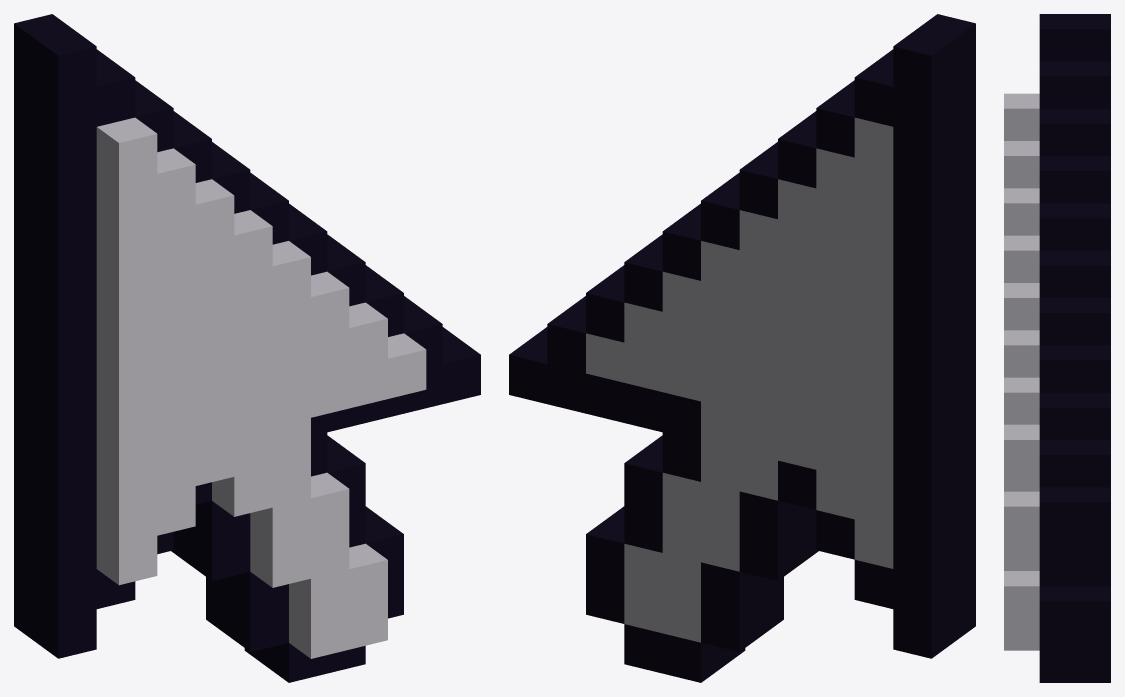
The model's file is voxel-cursor.glb.
3 views of the same model, side by side, from view 1: azimuth 30°, elevation 25°; view 2: azimuth 150°, elevation 25°; view 3: azimuth 270°, elevation 25° (orthographic). The views are drawn at different scales.
Parts seen in each view (by area): view 1: albretsen-mark-voxel; view 2: albretsen-mark-voxel; view 3: albretsen-mark-voxel.
Part boxes in pixels (bbox=[...]): albretsen-mark-voxel: bbox=[14, 14, 480, 682]; albretsen-mark-voxel: bbox=[509, 14, 975, 682]; albretsen-mark-voxel: bbox=[1004, 14, 1110, 682].
Bounding box in the file's own units: 1.1 × 1.7 × 0.3.
